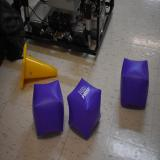cone: (20, 42, 58, 90)
cube: (67, 77, 101, 139), (32, 80, 64, 136), (120, 57, 149, 109)
